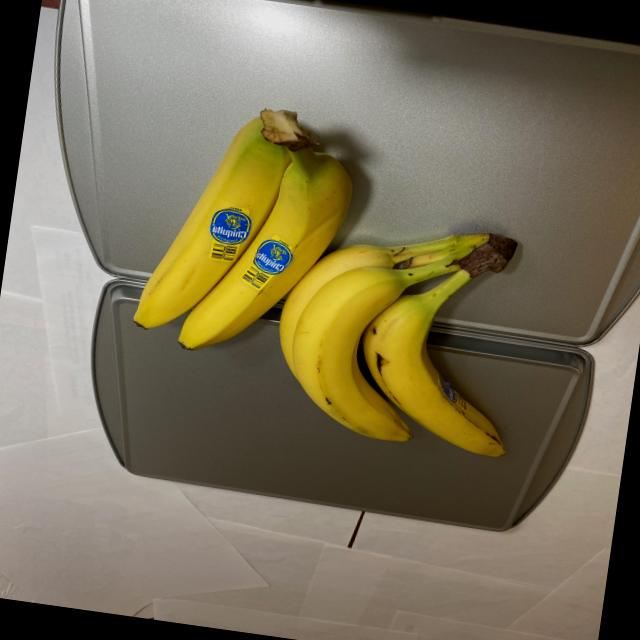banana: (115, 93, 561, 466)
